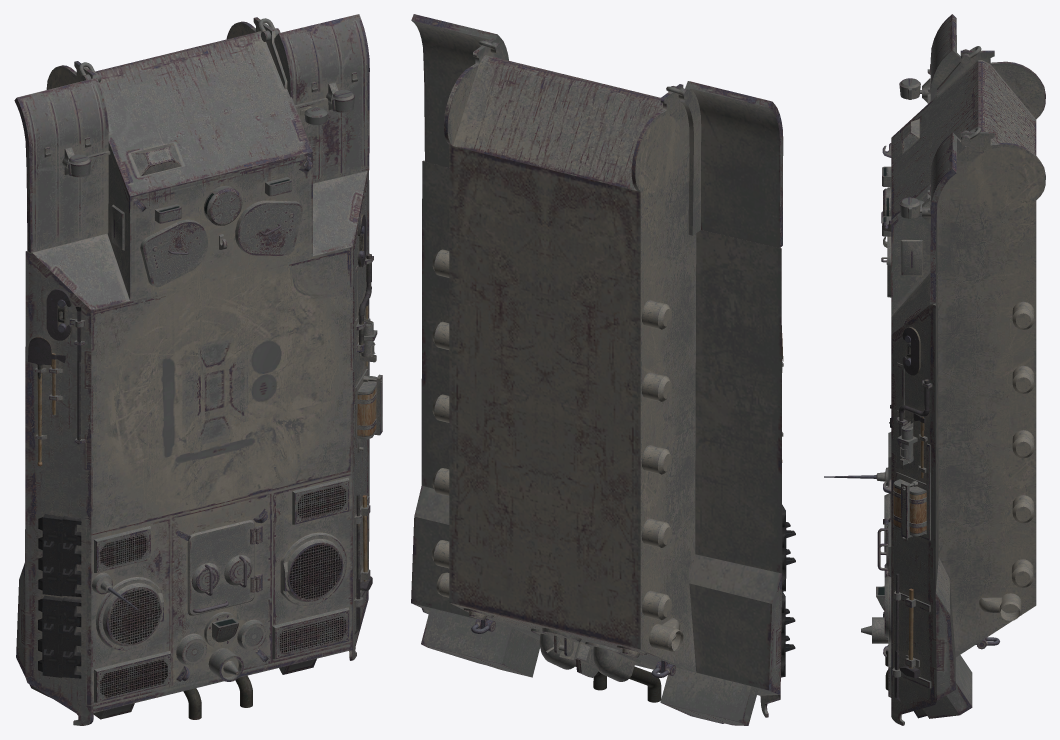
Rendered from Hull.glb.
3 renders of one model, left to right at view 1: azimuth 30°, elevation 25°; view 2: azimuth 150°, elevation 25°; view 3: azimuth 270°, elevation 25°, orthographic. The views are drawn at different scales.
Parts seen in each view (by area): view 1: set_0_group_0; view 2: set_0_group_0; view 3: set_0_group_0.
Part boxes in pixels (bbox=[...]): set_0_group_0: bbox=[14, 14, 382, 725]; set_0_group_0: bbox=[411, 14, 795, 725]; set_0_group_0: bbox=[824, 14, 1045, 725].
Size of the model in its own units: 3.13 by 5.52 by 1.88.
Materials: 1 (1 with a texture image).
